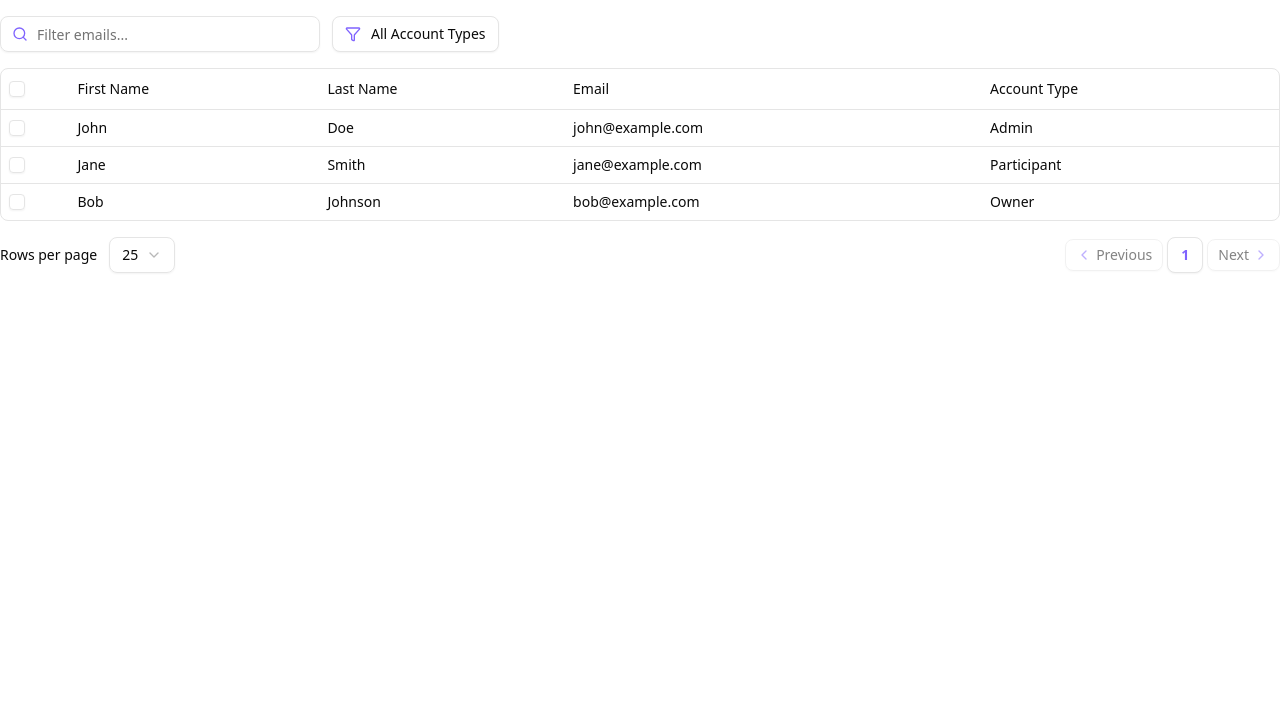
ManageAccountsDataTable › deletion › clears selection after successful delete
The width and height of the screenshot is (1280, 720).
Click the checkbox named "Select row 0": {"x": 17, "y": 128} [9,120,25,136]
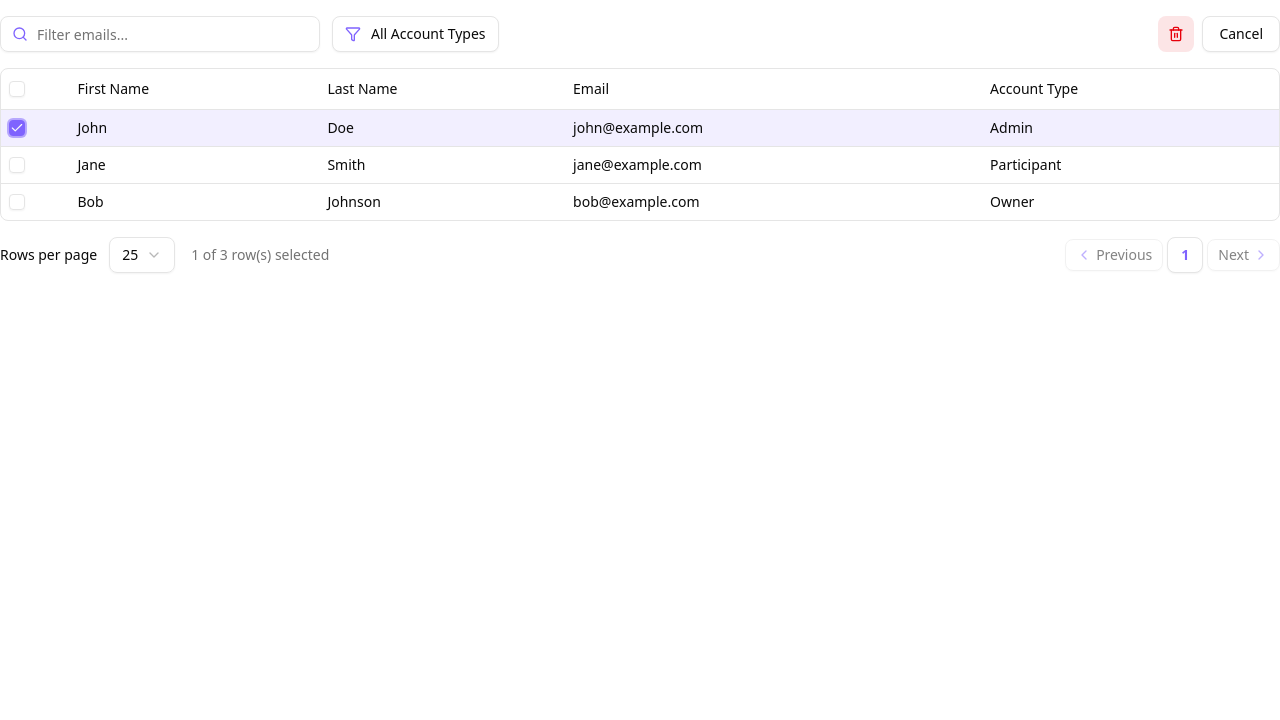
Click the 2nd button: {"x": 1176, "y": 34} [1158,16,1194,52]
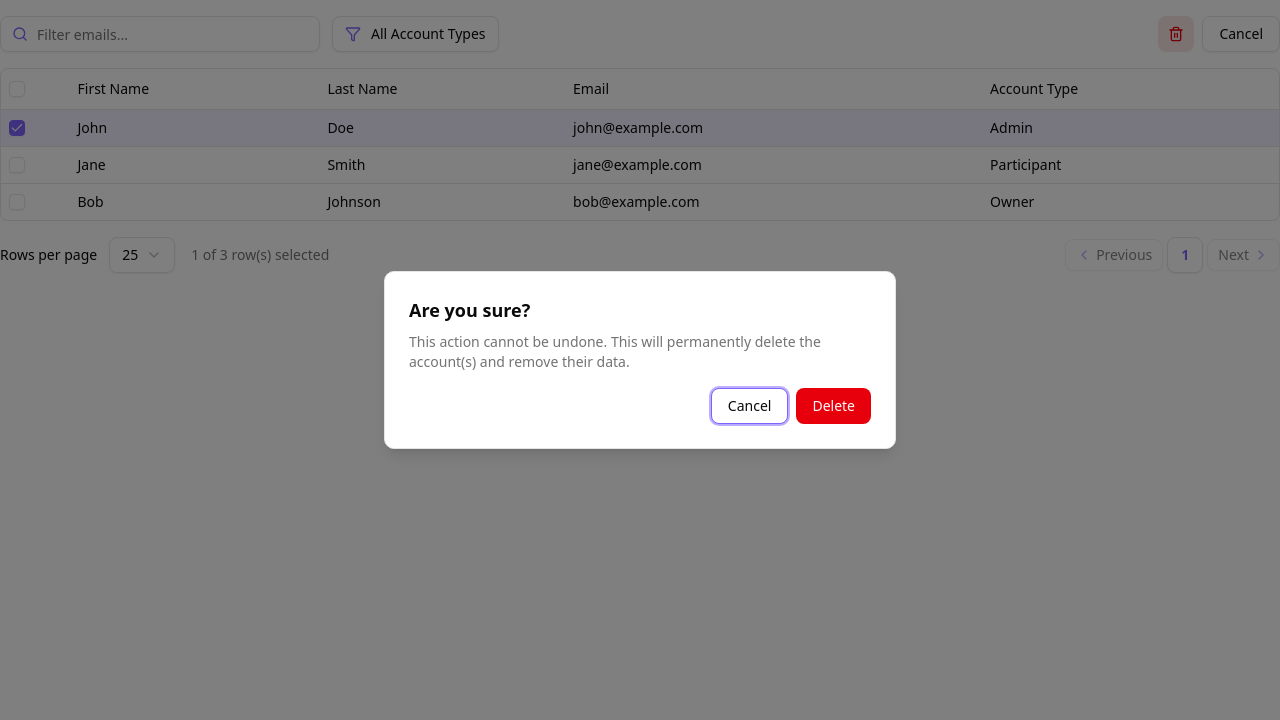
Click the button "Delete": {"x": 834, "y": 406} [796,388,871,424]
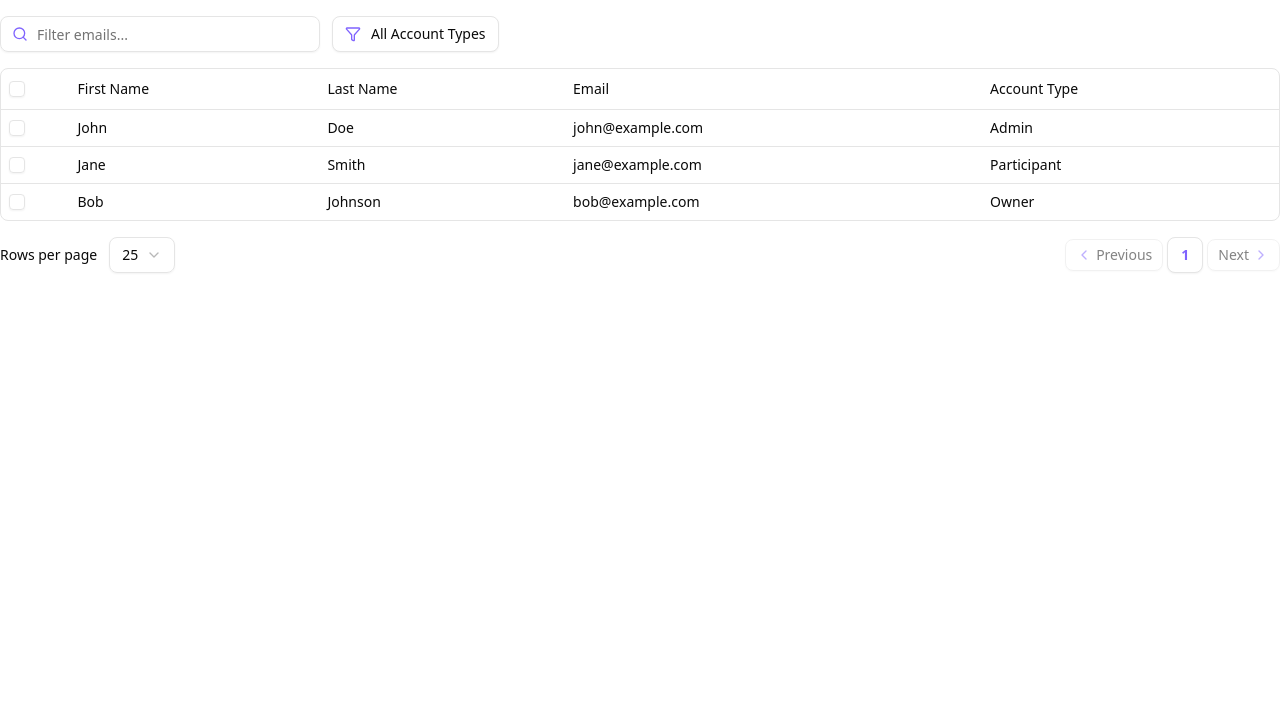
expect the text "row(s) selected" is gone: met
